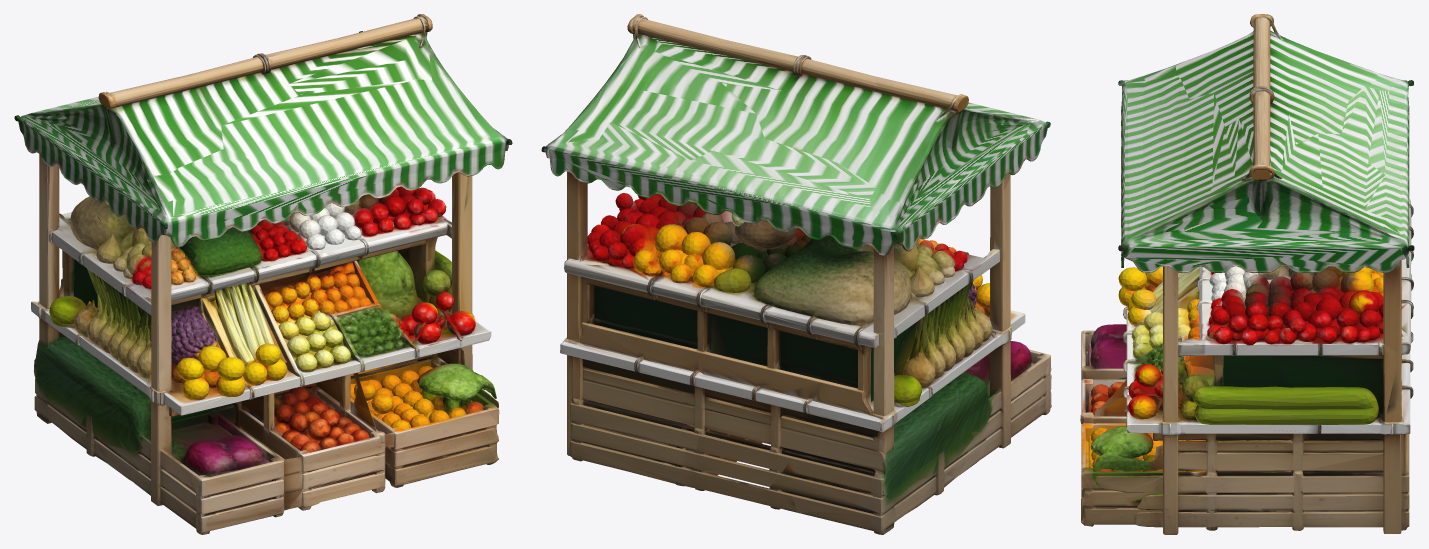
Rendered from fruit shop.obj.
3 renders of one model, left to right at view 1: azimuth 30°, elevation 25°; view 2: azimuth 150°, elevation 25°; view 3: azimuth 270°, elevation 25°, orthographic. The views are drawn at different scales.
Parts seen in each view (by area): view 1: material; view 2: material; view 3: material.
Part boxes in pixels (left/top/right/bottom): material: left=14, top=14, right=512, bottom=534; material: left=541, top=14, right=1051, bottom=534; material: left=1080, top=14, right=1414, bottom=534.
Size of the model in its own units: 0.7524 by 0.7806 by 0.6367.
Materials: 1 (1 with a texture image).
